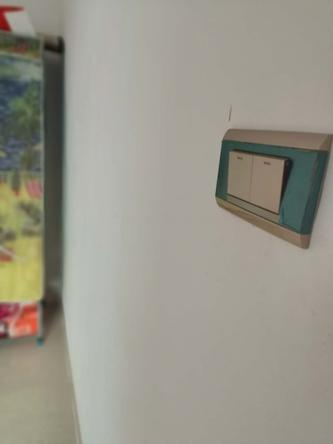switch: (244, 150, 292, 216), (224, 147, 255, 204)
